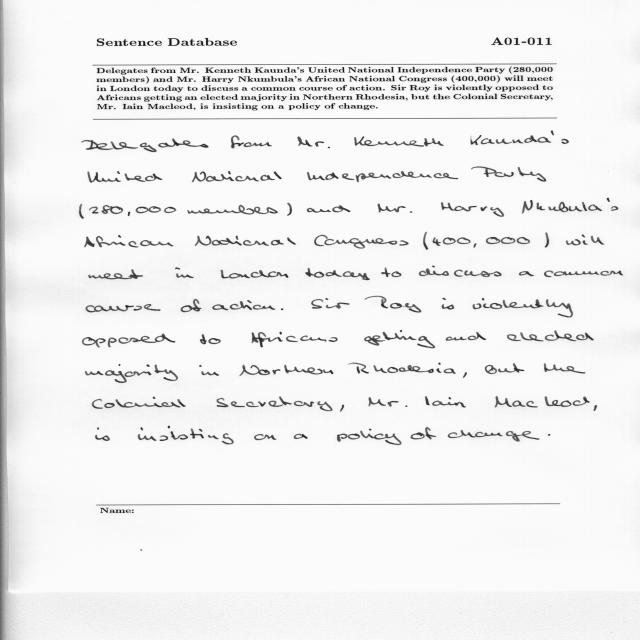word: (472, 298, 573, 317), (82, 138, 209, 152), (85, 364, 178, 383), (217, 397, 333, 412), (138, 426, 234, 444), (307, 171, 458, 182), (522, 198, 619, 214), (470, 131, 569, 145), (314, 235, 409, 249), (83, 334, 176, 348), (252, 332, 338, 347), (365, 331, 436, 349), (348, 363, 456, 374), (85, 235, 174, 248), (92, 397, 186, 409), (471, 167, 546, 182), (495, 397, 590, 408), (240, 365, 334, 376), (337, 429, 401, 445), (448, 430, 540, 441), (195, 236, 296, 246), (354, 136, 444, 147), (192, 171, 282, 182), (432, 237, 530, 247), (89, 205, 176, 216), (507, 331, 594, 342), (365, 296, 421, 313), (441, 202, 504, 217), (419, 266, 502, 277), (88, 171, 162, 183), (187, 205, 278, 214), (305, 268, 370, 280), (212, 300, 275, 310), (221, 270, 289, 279), (86, 304, 161, 312), (89, 270, 143, 280), (231, 136, 272, 149), (544, 271, 623, 277), (544, 363, 585, 374), (425, 397, 466, 408), (311, 298, 350, 309), (485, 363, 524, 374), (566, 235, 604, 246), (297, 137, 330, 149), (369, 397, 407, 407), (446, 332, 486, 341), (307, 205, 350, 213), (378, 204, 412, 213), (411, 427, 436, 439), (181, 299, 202, 312), (199, 365, 219, 376), (381, 268, 402, 278), (200, 334, 221, 344), (175, 267, 194, 278), (96, 427, 110, 441), (442, 298, 454, 310), (254, 434, 277, 440), (423, 232, 428, 250), (79, 204, 84, 219), (519, 271, 534, 276), (294, 434, 308, 439), (287, 203, 292, 216), (545, 233, 549, 248), (340, 405, 344, 412), (463, 372, 467, 378), (594, 405, 597, 411), (281, 308, 283, 310), (548, 434, 550, 436)
